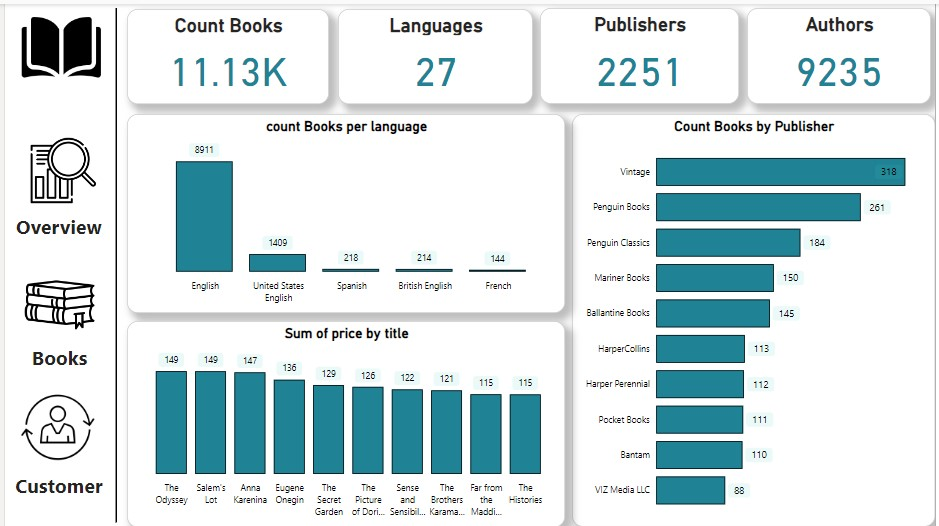

The dashboard page shown, as its layout file describes it:
{"tool":"powerbi","page":{"name":"books","canvas":[1280,720],"ordinal":1},"visuals":[{"type":"card","title":"Count Books","fields":{"Values":["CountNonNull(Book_Dim.pk_book_id_bk)"]},"box":[167.9,6.9,278,130.8],"z":0},{"type":"card","title":"Languages","fields":{"Values":["Count(Book_Dim.language_name)"]},"box":[458.3,6.9,268.4,130.8],"z":1000},{"type":"card","title":"Publishers","fields":{"Values":["Count(Book_Dim.puplisher_name)"]},"box":[736.3,5.5,273.9,132.1],"z":2000},{"type":"card","title":"Authors","fields":{"Values":["Count(Author_Dim.pk_author_id_sk)"]},"box":[1021.2,5.5,253.2,132.1],"z":3000},{"type":"clusteredBarChart","title":"Count Books by Publisher","fields":{"Category":["Book_Dim.puplisher_name"],"Y":["Count(Book_Dim.pk_book_id_bk)"]},"box":[780.4,151.4,499.6,568.4],"z":4000},{"type":"clusteredColumnChart","title":"count Books per language","fields":{"Category":["Book_Dim.language_name"],"Y":["CountNonNull(Book_Dim.pk_book_id_sk)"]},"box":[167.9,151.4,602.8,273.9],"z":5000},{"type":"clusteredColumnChart","fields":{"Category":["Book_Dim.title"],"Y":["Sum(Sales_Fact.price)"]},"box":[167.9,436.3,602.8,283.5],"z":6000},{"type":"image","box":[0,0,154.1,118.9],"z":7000},{"type":"shape","box":[136.5,5.4,33.8,708.1],"z":8000},{"type":"textbox","box":[0,282.4,148.6,47.3],"z":9000},{"type":"textbox","box":[15.1,462.5,119.7,52.3],"z":10000},{"type":"textbox","box":[0,638.6,148.6,49.5],"z":11000},{"type":"image","box":[30.3,176.2,100.5,106],"z":12000},{"type":"image","box":[15.1,346.8,119.7,106],"z":13000},{"type":"image","box":[15.1,527.1,115.6,111.5],"z":14000}]}

Visuals, with their boxes in screenshot pixels (x1, y1, x2, y2), scaled from the page's 1280x720 canvas onto the 939x526 screenshot:
"Count Books" card: bbox(123, 5, 327, 101)
"Languages" card: bbox(336, 5, 533, 101)
"Publishers" card: bbox(540, 4, 741, 101)
"Authors" card: bbox(749, 4, 935, 101)
"Count Books by Publisher" clusteredBarChart: bbox(572, 111, 938, 525)
"count Books per language" clusteredColumnChart: bbox(123, 111, 565, 311)
clusteredColumnChart - Book_Dim.title x Sum(Sales_Fact.price): bbox(123, 319, 565, 525)
image: bbox(0, 0, 113, 87)
shape: bbox(100, 4, 125, 521)
textbox: bbox(0, 206, 109, 241)
textbox: bbox(11, 338, 99, 376)
textbox: bbox(0, 467, 109, 503)
image: bbox(22, 129, 96, 206)
image: bbox(11, 253, 99, 331)
image: bbox(11, 385, 96, 467)
